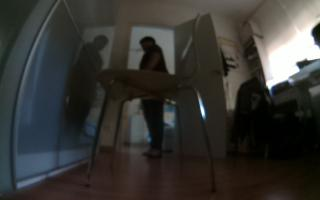person: (134, 32, 172, 161)
